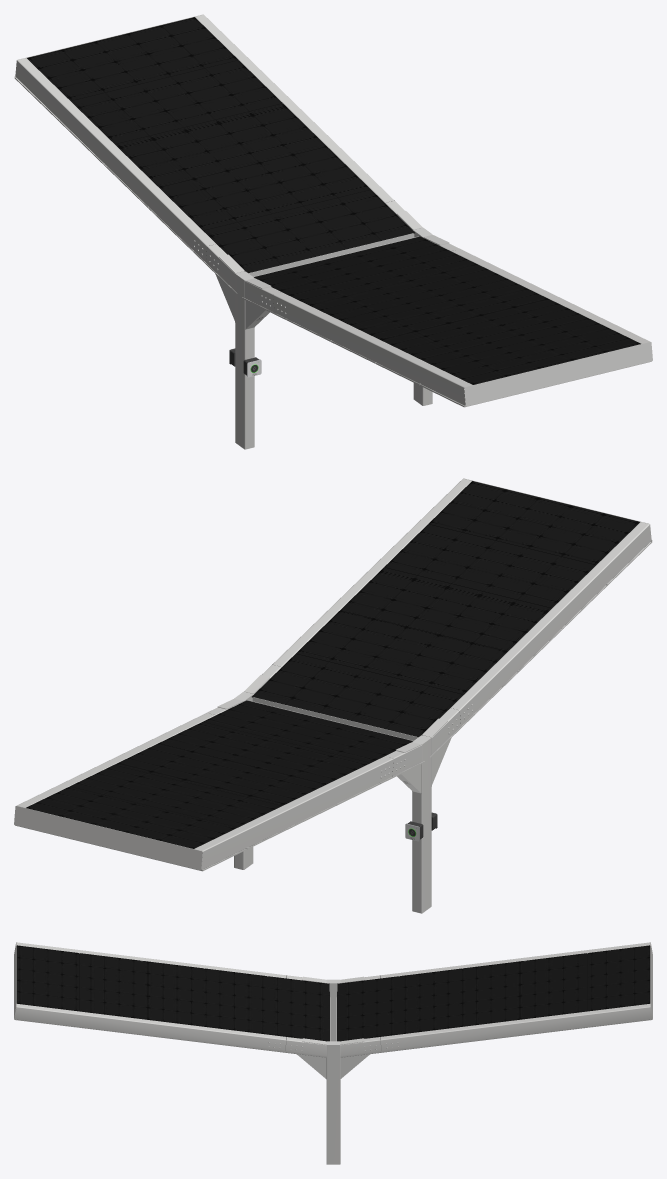
Rendered from Pac_2.glb.
3 views of the same model, one above another, from view 1: azimuth 30°, elevation 25°; view 2: azimuth 150°, elevation 25°; view 3: azimuth 270°, elevation 25° (orthographic). The views are drawn at different scales.
Visible parts, largest first — view 1: Left.037, Left.031, Left.026, Left.032, Left.040, Left.034, Left.027, Plane.005; view 2: Left.037, Left.031, Left.026, Left.032, Left.040, Left.034, Left.027, Plane.005; view 3: Left.037, Left.032, Left.031, Left.029, Plane.004, Left.040, Left.026.
Boxes of the visible parts, left/top/right/bottom form: Left.037: left=27, top=17, right=640, bottom=384; Left.031: left=15, top=58, right=472, bottom=405; Left.026: left=15, top=14, right=652, bottom=406; Left.032: left=195, top=14, right=650, bottom=343; Left.040: left=235, top=271, right=254, bottom=449; Left.034: left=14, top=76, right=651, bottom=407; Left.027: left=248, top=233, right=418, bottom=276; Plane.005: left=215, top=274, right=269, bottom=329; Left.037: left=26, top=481, right=639, bottom=848; Left.031: left=194, top=522, right=651, bottom=869; Left.026: left=14, top=478, right=651, bottom=870; Left.032: left=16, top=478, right=471, bottom=807; Left.040: left=412, top=735, right=431, bottom=913; Left.034: left=15, top=540, right=652, bottom=871; Left.027: left=248, top=697, right=418, bottom=740; Plane.005: left=397, top=738, right=451, bottom=793; Left.037: left=16, top=945, right=650, bottom=1041; Left.032: left=14, top=1004, right=652, bottom=1057; Left.031: left=16, top=942, right=650, bottom=982; Left.029: left=326, top=1041, right=340, bottom=1164; Plane.004: left=298, top=1055, right=368, bottom=1078; Left.040: left=326, top=979, right=340, bottom=1041; Left.026: left=14, top=942, right=652, bottom=1018.
Size of the model in its own units: 2.82 by 3.15 by 11.57.
Materials: 6 (5 with a texture image).
